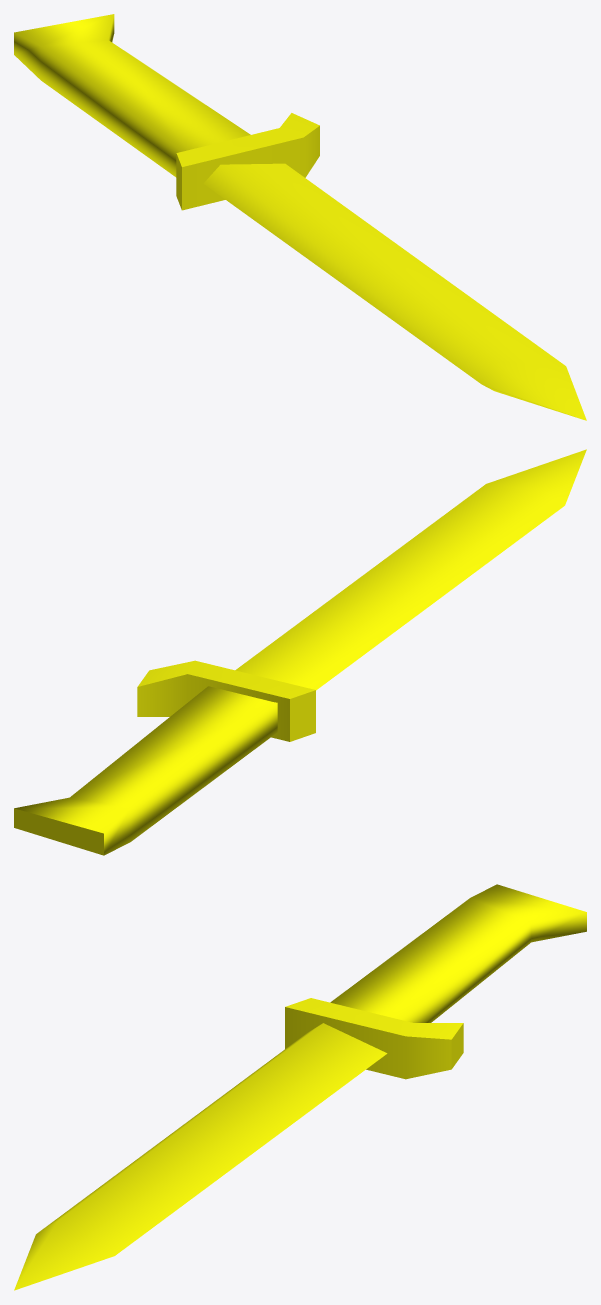
Rendered from weapon_knife_german.glb.
3 renders of one model, top to bottom at view 1: azimuth 30°, elevation 25°; view 2: azimuth 150°, elevation 25°; view 3: azimuth 330°, elevation 25°, orthographic.
Parts seen in each view (by area): view 1: weapon_knife_german; view 2: weapon_knife_german; view 3: weapon_knife_german.
Part boxes in pixels (box(x1,y1,x2,y2)): weapon_knife_german: box(14, 14, 586, 420); weapon_knife_german: box(14, 449, 586, 855); weapon_knife_german: box(14, 884, 586, 1290).
Bounding box in the file's own units: 0.1819 × 0.0492 × 1.09.
Materials: 1 (1 with a texture image).
